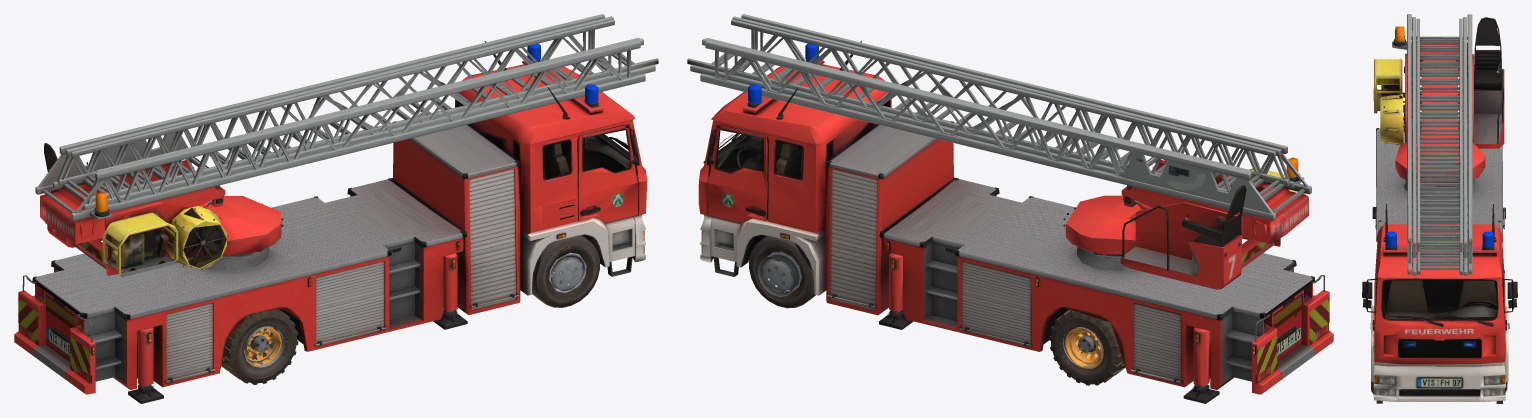
The model's file is ladder_truck.glb.
3 views of the same model, side by side, from view 1: azimuth 30°, elevation 25°; view 2: azimuth 150°, elevation 25°; view 3: azimuth 270°, elevation 25° (orthographic). The views are drawn at different scales.
Parts seen in each view (by area): view 1: Body, Wheel_RR, Wheel_FR; view 2: Body, Wheel_RL, Wheel_FL; view 3: Body.
Part boxes in pixels (left/top/right/bottom): Body: left=14, top=14, right=658, bottom=403; Wheel_RR: left=221, top=309, right=298, bottom=384; Wheel_FR: left=532, top=235, right=599, bottom=307; Body: left=687, top=14, right=1333, bottom=403; Wheel_RL: left=1049, top=309, right=1125, bottom=385; Wheel_FL: left=749, top=236, right=815, bottom=308; Body: left=1362, top=14, right=1517, bottom=403.
Size of the model in its own units: 1.4 by 0.524 by 0.3742.
14 materials, 14 textured.
